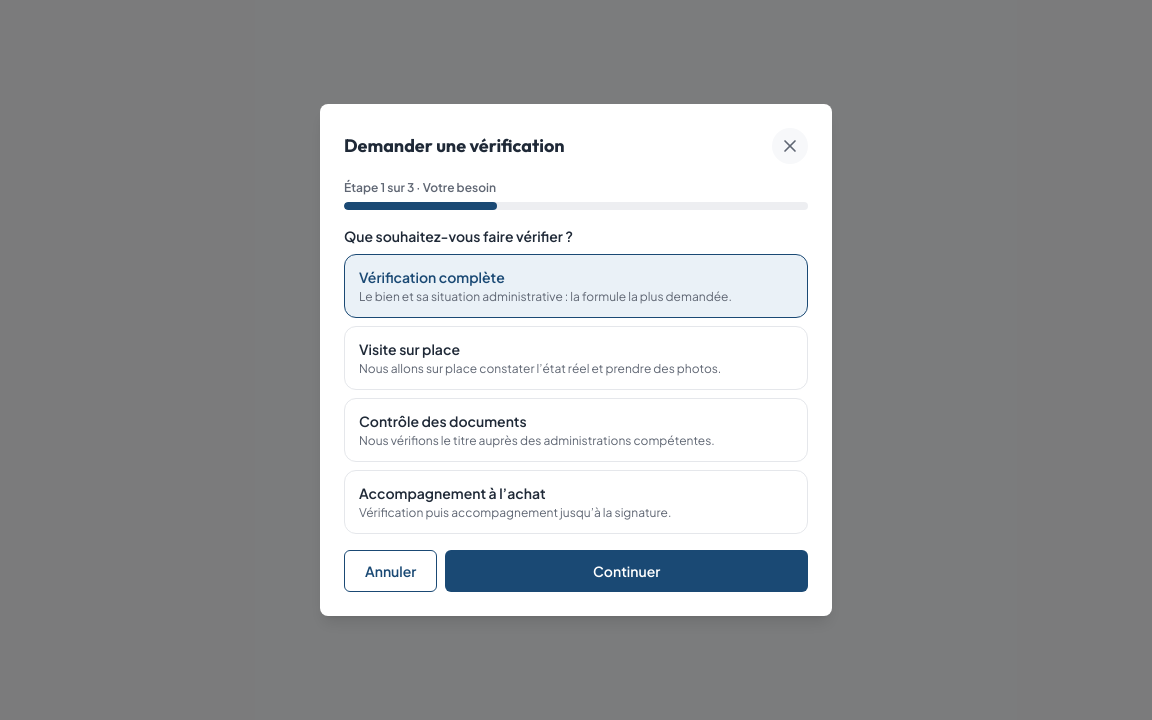
Test: NewMissionModal (assistant en trois étapes) › exige de situer le bien avant de continuer
The width and height of the screenshot is (1152, 720).
Step 1. Click the button "Continuer" → (627, 571), box [445,550,808,592]
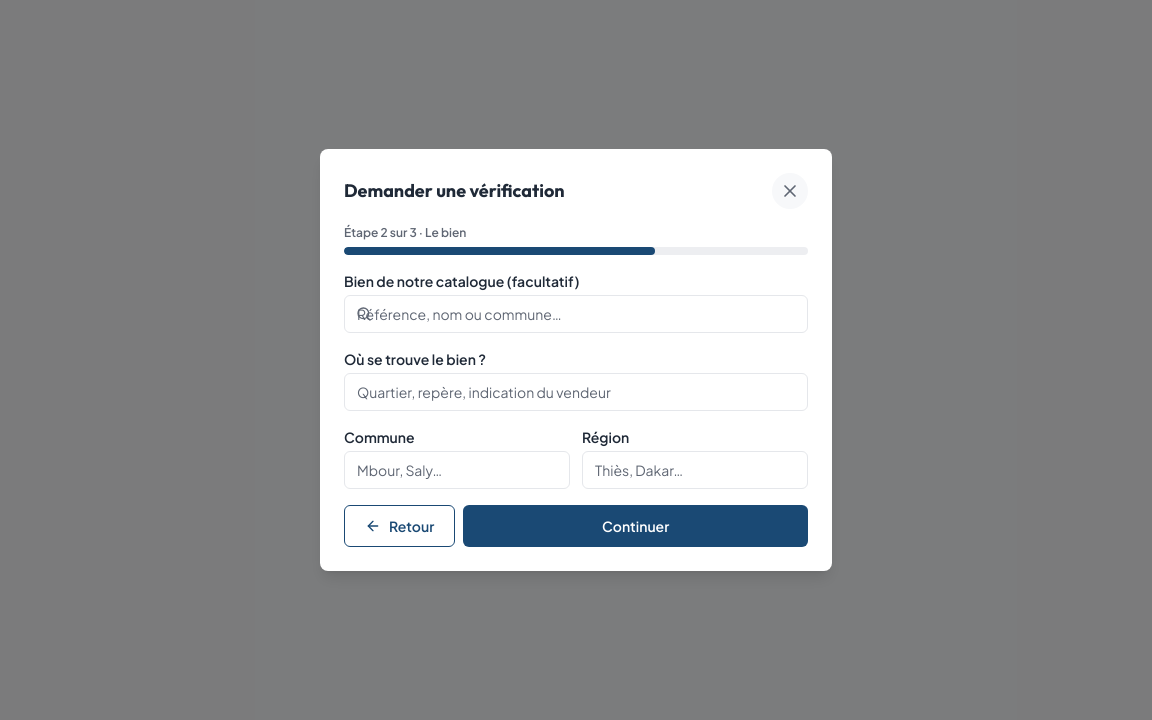
Step 2. Click the button "Continuer" → (636, 526), box [463,505,808,547]
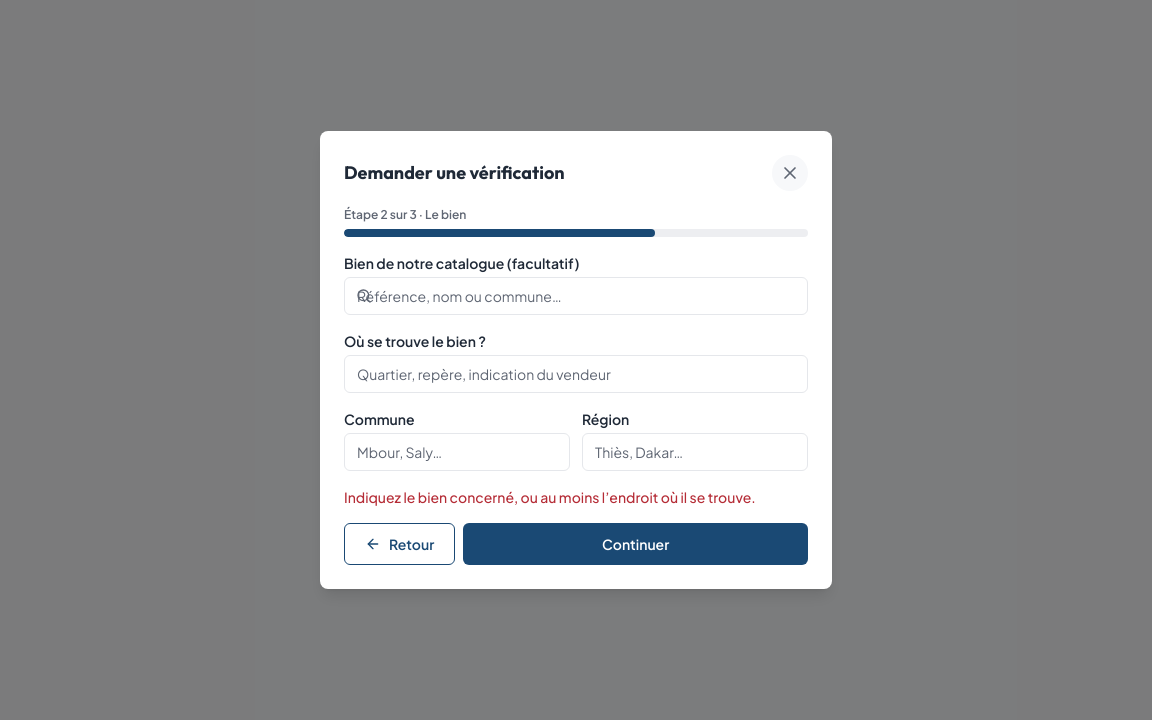
Check: the text "Étape 2 sur 3 · Le bien" is shown, box [344,207,466,222]
Check: the message shows "Indiquez le bien concerné", box [344,488,756,506]
